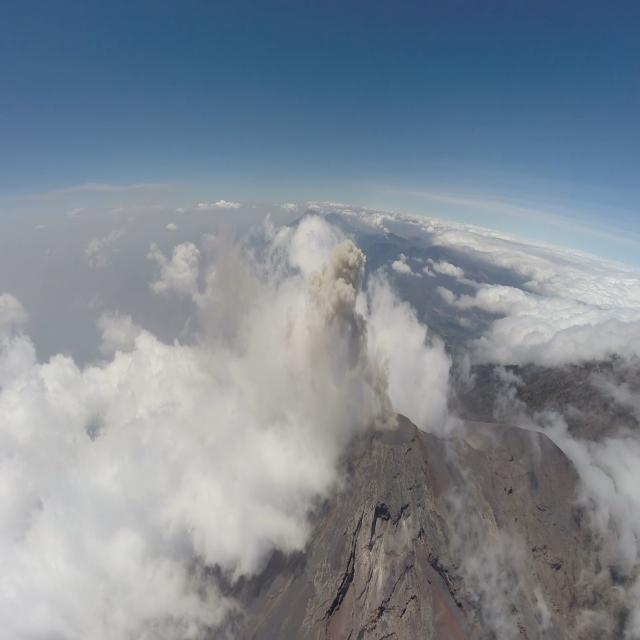Plume: (305, 221, 400, 417)
Summit: (346, 412, 441, 555)
